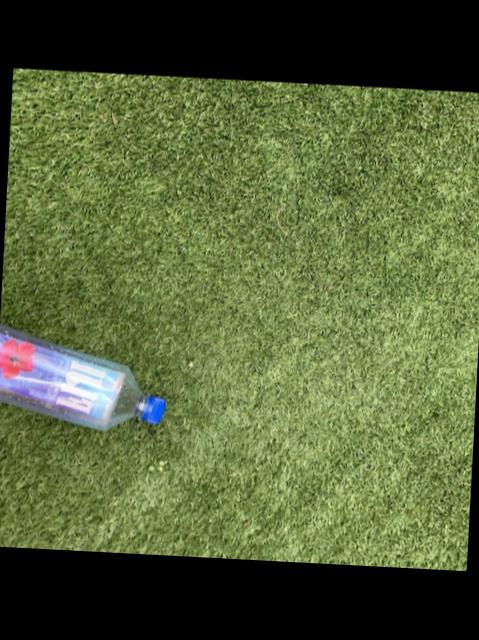plastic: (0, 325, 162, 429)
